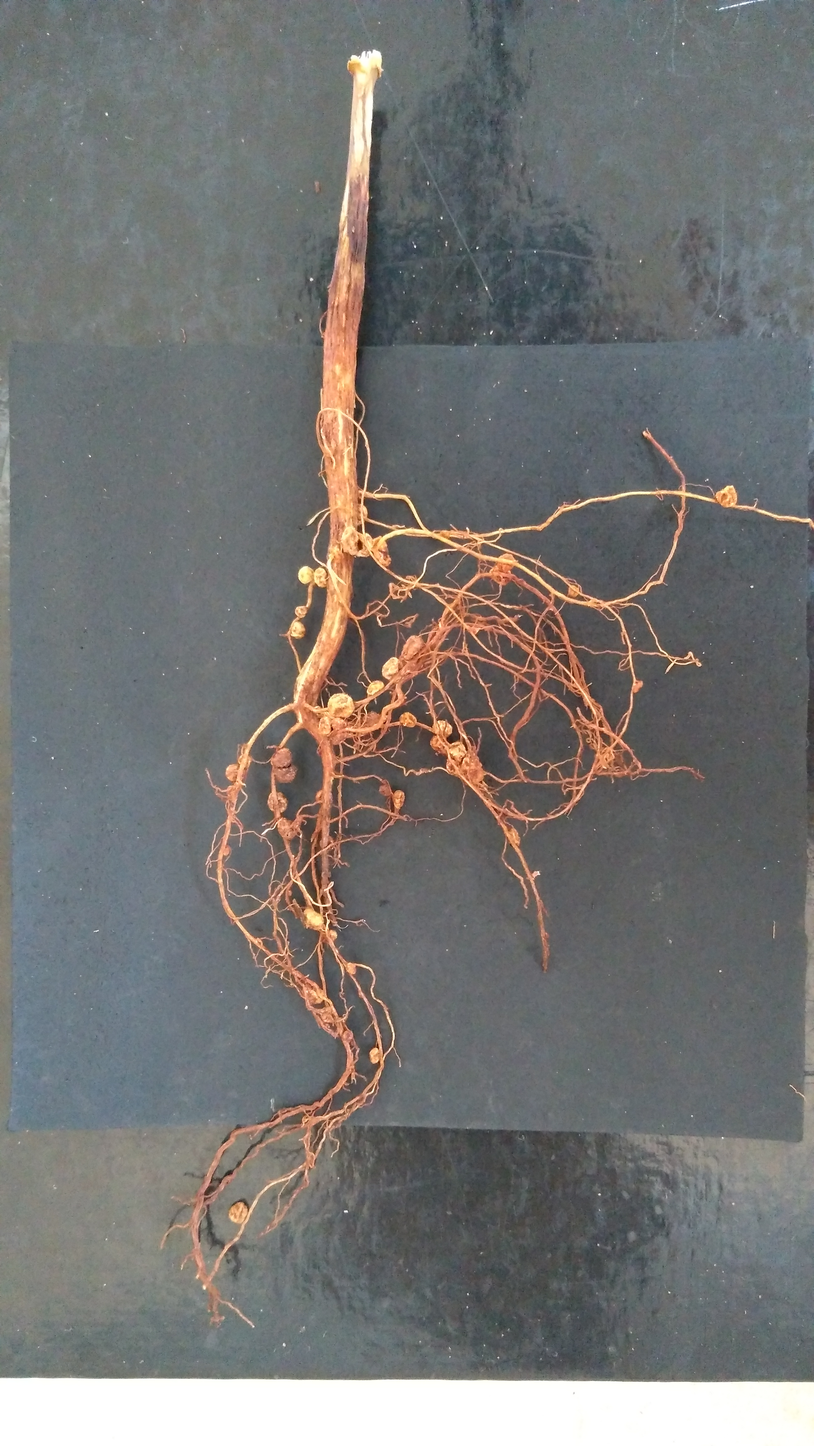nodule: (400, 635, 425, 662), (328, 693, 354, 718), (461, 755, 483, 784), (382, 657, 405, 683), (372, 536, 391, 566), (342, 526, 359, 556), (303, 982, 326, 1004), (301, 908, 323, 930), (597, 745, 615, 771), (331, 717, 347, 745), (716, 486, 737, 507), (271, 747, 292, 767), (267, 792, 288, 812), (489, 565, 511, 584), (357, 533, 374, 557), (278, 818, 297, 839), (229, 1202, 248, 1223), (273, 766, 297, 782), (448, 740, 466, 761), (497, 553, 516, 572), (433, 720, 452, 737), (226, 764, 245, 781), (314, 566, 328, 587), (318, 715, 332, 736), (363, 711, 380, 728), (298, 566, 314, 584), (290, 621, 306, 639), (328, 546, 344, 563), (400, 712, 417, 728), (367, 680, 385, 695), (315, 789, 333, 804), (508, 827, 521, 847), (321, 929, 337, 945), (320, 1006, 334, 1024), (392, 790, 405, 809), (446, 757, 459, 775), (356, 504, 367, 525), (431, 735, 447, 749), (379, 779, 391, 796), (369, 1048, 380, 1064), (295, 605, 308, 618), (315, 706, 329, 718), (239, 755, 251, 767), (588, 599, 603, 608), (346, 962, 357, 974), (568, 585, 579, 596), (226, 785, 237, 796), (220, 845, 230, 856), (343, 1030, 353, 1041), (633, 681, 642, 692), (440, 530, 450, 539), (320, 839, 328, 847), (471, 627, 480, 634), (466, 750, 474, 757), (486, 799, 492, 807), (287, 890, 292, 896)
